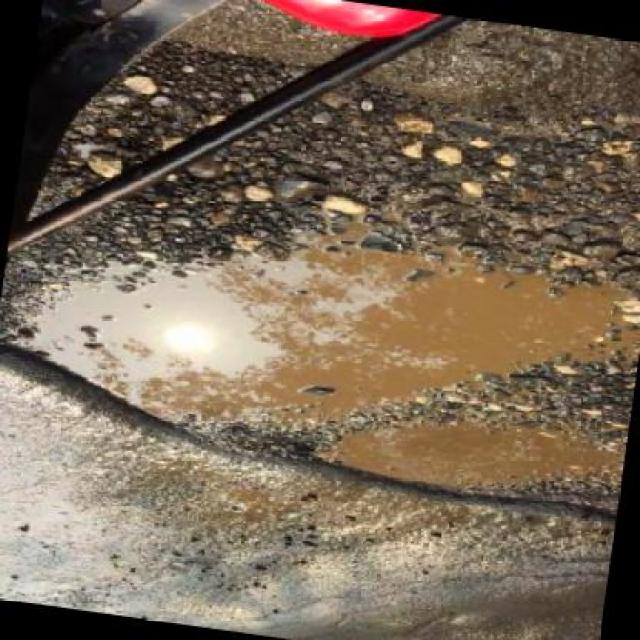pothole1: (0, 161, 638, 530)
